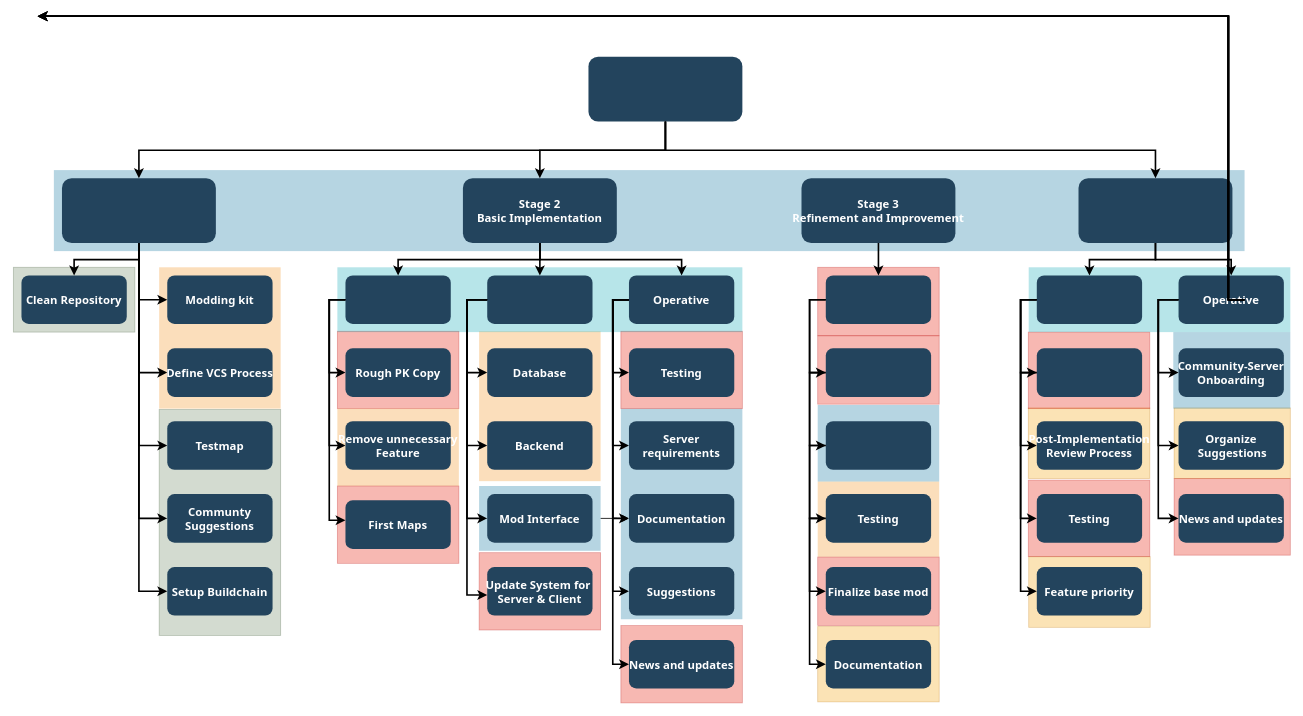
Some shapes in this 1303 by 716 pixel diagram are drawn without their labels. Each missing label, with the centre of its shape:
"Architecture" goes at [539,299].
"Feature SDLC" goes at [1089,299].
"Fix Known Issues/ Technical Debts" goes at [878,372].
"Improvement of existing features" goes at [878,445].
"Mod" goes at [397,299].
"Pre-Implementation Review Process" goes at [1089,372].
"Refinment" goes at [878,299].
"RoadMap" goes at [665,88].
"Stage 1 Preparation and Tooling" goes at [138,210].
"Stage 4 Feature Development" goes at [1155,210].
